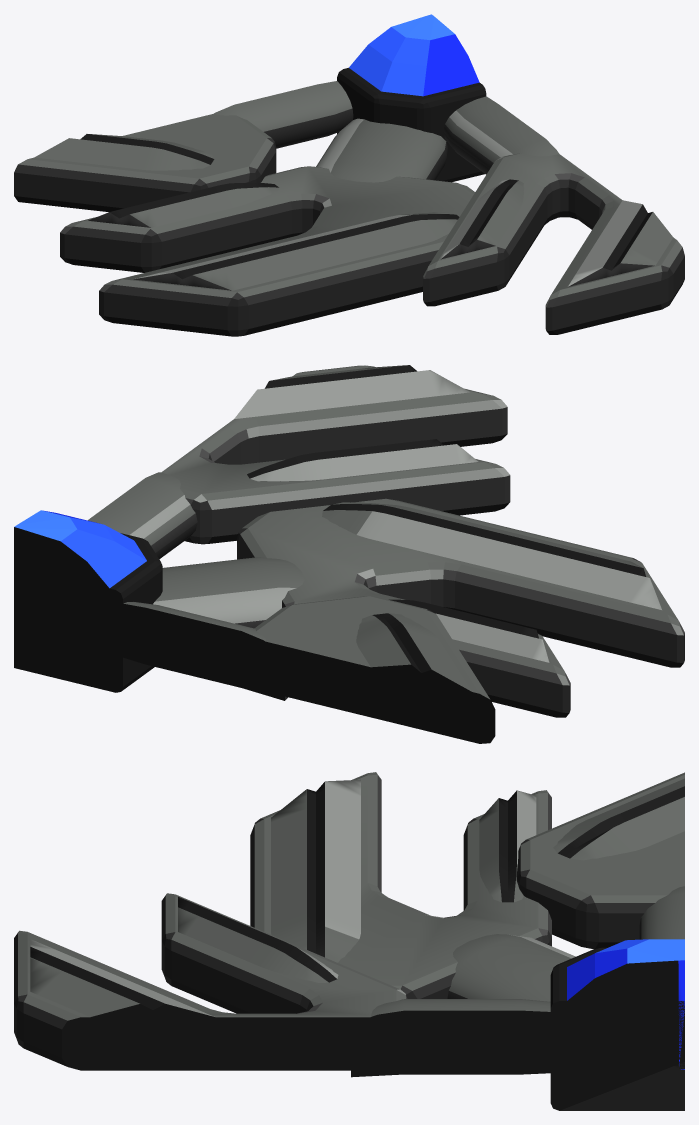
Rendered from dark_saw_195.glb.
The picture shows the model from 3 angles, top to bottom: view 1: azimuth 30°, elevation 25°; view 2: azimuth 150°, elevation 25°; view 3: azimuth 270°, elevation 25°; orthographic projection. The views are drawn at different scales.
Visible parts, largest first — view 1: dark_saw_195_under2_plate, dark_saw_195_arm2_plate, dark_saw_195_arm3_plate, dark_saw_195_under2_ridge0, dark_saw_195_gem, dark_saw_195_under2_rod, dark_saw_195_gem_bezel, dark_saw_195_arm3_rod, dark_saw_195_arm2_rod, dark_saw_195_arm2_ridge0, dark_saw_195_arm3_ridge0, dark_saw_195_under2_ridge1 (+1 smaller); view 2: dark_saw_195_under2_plate, dark_saw_195_arm2_plate, dark_saw_195_arm3_plate, dark_saw_195_under2_ridge0, dark_saw_195_arm3_rod, dark_saw_195_gem_bezel, dark_saw_195_gem, dark_saw_195_under2_rod, dark_saw_195_arm2_ridge0, dark_saw_195_arm2_ridge1, dark_saw_195_arm3_ridge0, dark_saw_195_arm2_rod (+1 smaller); view 3: dark_saw_195_arm2_plate, dark_saw_195_under2_plate, dark_saw_195_gem_bezel, dark_saw_195_arm2_rod, dark_saw_195_under2_ridge0, dark_saw_195_arm3_plate, dark_saw_195_gem, dark_saw_195_arm2_ridge0, dark_saw_195_under2_rod, dark_saw_195_arm3_ridge0, dark_saw_195_arm2_ridge1, dark_saw_195_under2_ridge1 (+1 smaller).
Part boxes in pixels (bbox=[...]): dark_saw_195_under2_plate: bbox=[60, 166, 474, 336]; dark_saw_195_arm2_plate: bbox=[423, 153, 684, 334]; dark_saw_195_arm3_plate: bbox=[14, 114, 276, 211]; dark_saw_195_under2_ridge0: bbox=[133, 212, 459, 290]; dark_saw_195_gem: bbox=[349, 14, 479, 96]; dark_saw_195_under2_rod: bbox=[316, 118, 447, 182]; dark_saw_195_gem_bezel: bbox=[337, 67, 486, 182]; dark_saw_195_arm3_rod: bbox=[214, 81, 353, 148]; dark_saw_195_arm2_rod: bbox=[443, 96, 559, 174]; dark_saw_195_arm2_ridge0: bbox=[568, 200, 673, 286]; dark_saw_195_arm3_ridge0: bbox=[34, 134, 214, 170]; dark_saw_195_under2_ridge1: bbox=[88, 183, 279, 227]; dark_saw_195_under2_plate: bbox=[237, 498, 684, 717]; dark_saw_195_arm2_plate: bbox=[161, 365, 510, 544]; dark_saw_195_arm3_plate: bbox=[237, 596, 495, 743]; dark_saw_195_under2_ridge0: bbox=[322, 502, 661, 609]; dark_saw_195_arm3_rod: bbox=[83, 597, 287, 700]; dark_saw_195_gem_bezel: bbox=[14, 533, 162, 692]; dark_saw_195_gem: bbox=[14, 510, 146, 629]; dark_saw_195_under2_rod: bbox=[153, 557, 304, 628]; dark_saw_195_arm2_ridge0: bbox=[234, 365, 469, 418]; dark_saw_195_arm2_ridge1: bbox=[247, 439, 478, 481]; dark_saw_195_arm3_ridge0: bbox=[356, 613, 478, 702]; dark_saw_195_arm2_rod: bbox=[88, 472, 197, 558]; dark_saw_195_arm2_plate: bbox=[14, 893, 409, 1070]; dark_saw_195_under2_plate: bbox=[250, 772, 551, 998]; dark_saw_195_gem_bezel: bbox=[550, 947, 684, 1110]; dark_saw_195_arm2_rod: bbox=[351, 999, 599, 1077]; dark_saw_195_under2_ridge0: bbox=[271, 779, 360, 962]; dark_saw_195_arm3_plate: bbox=[516, 772, 684, 948]; dark_saw_195_gem: bbox=[563, 939, 684, 1069]; dark_saw_195_arm2_ridge0: bbox=[30, 939, 227, 1026]; dark_saw_195_under2_rod: bbox=[447, 934, 575, 1001]; dark_saw_195_arm3_ridge0: bbox=[553, 778, 684, 860]; dark_saw_195_arm2_ridge1: bbox=[178, 897, 338, 982]; dark_saw_195_under2_ridge1: bbox=[479, 790, 536, 902].
Size of the model in its own units: 21.97 by 5.62 by 22.7.
